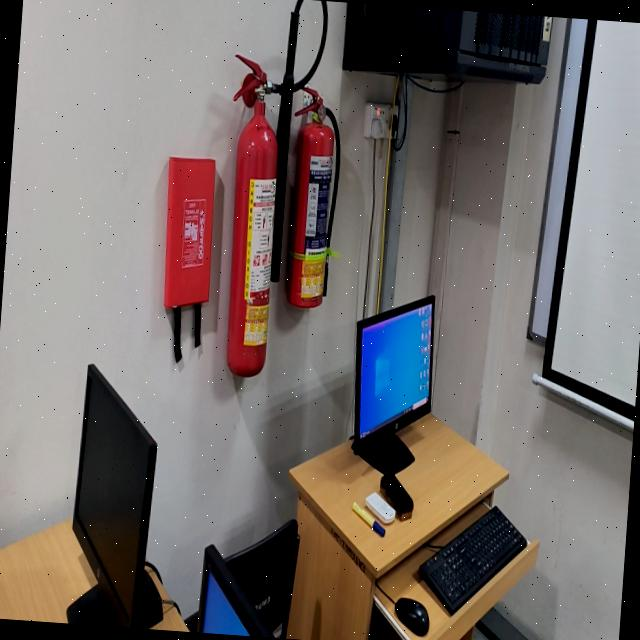Chair: (223, 518, 298, 638), (183, 610, 197, 632)
Fire Extinguisher: (225, 52, 277, 375), (286, 116, 334, 306)
Keyboard: (418, 505, 526, 614)
Monitor: (65, 363, 174, 629), (350, 295, 433, 473), (196, 543, 273, 637)
Mouse: (394, 596, 428, 635)
